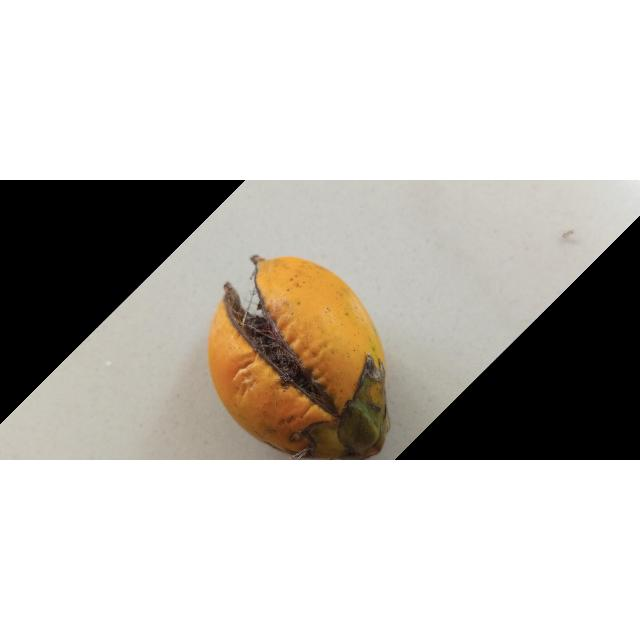damaged: (208, 257, 389, 461)
